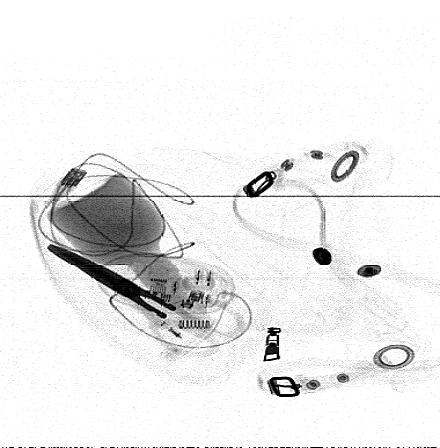Scissors: (43, 239, 249, 359)
